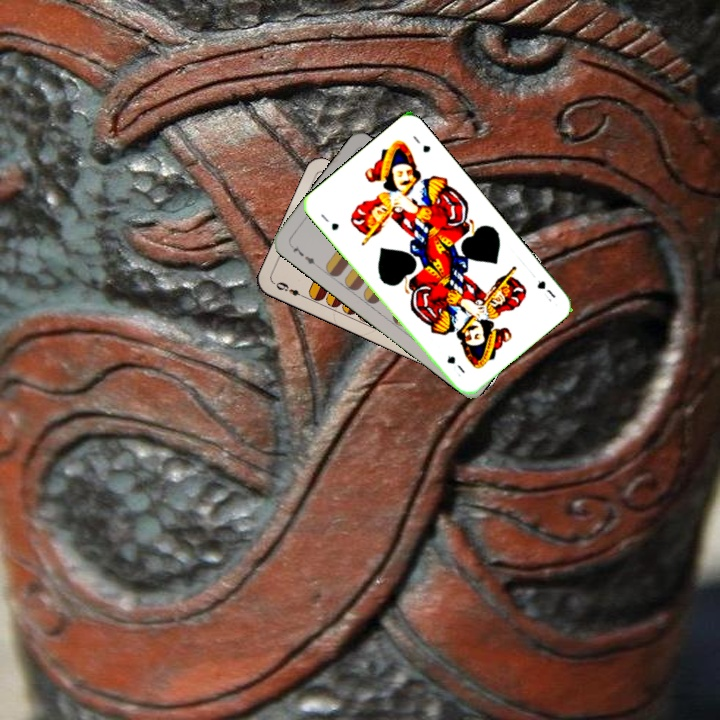E7: (286, 240, 321, 270)
E9: (272, 278, 308, 301)
GU: (533, 276, 558, 301), (316, 209, 342, 233)
